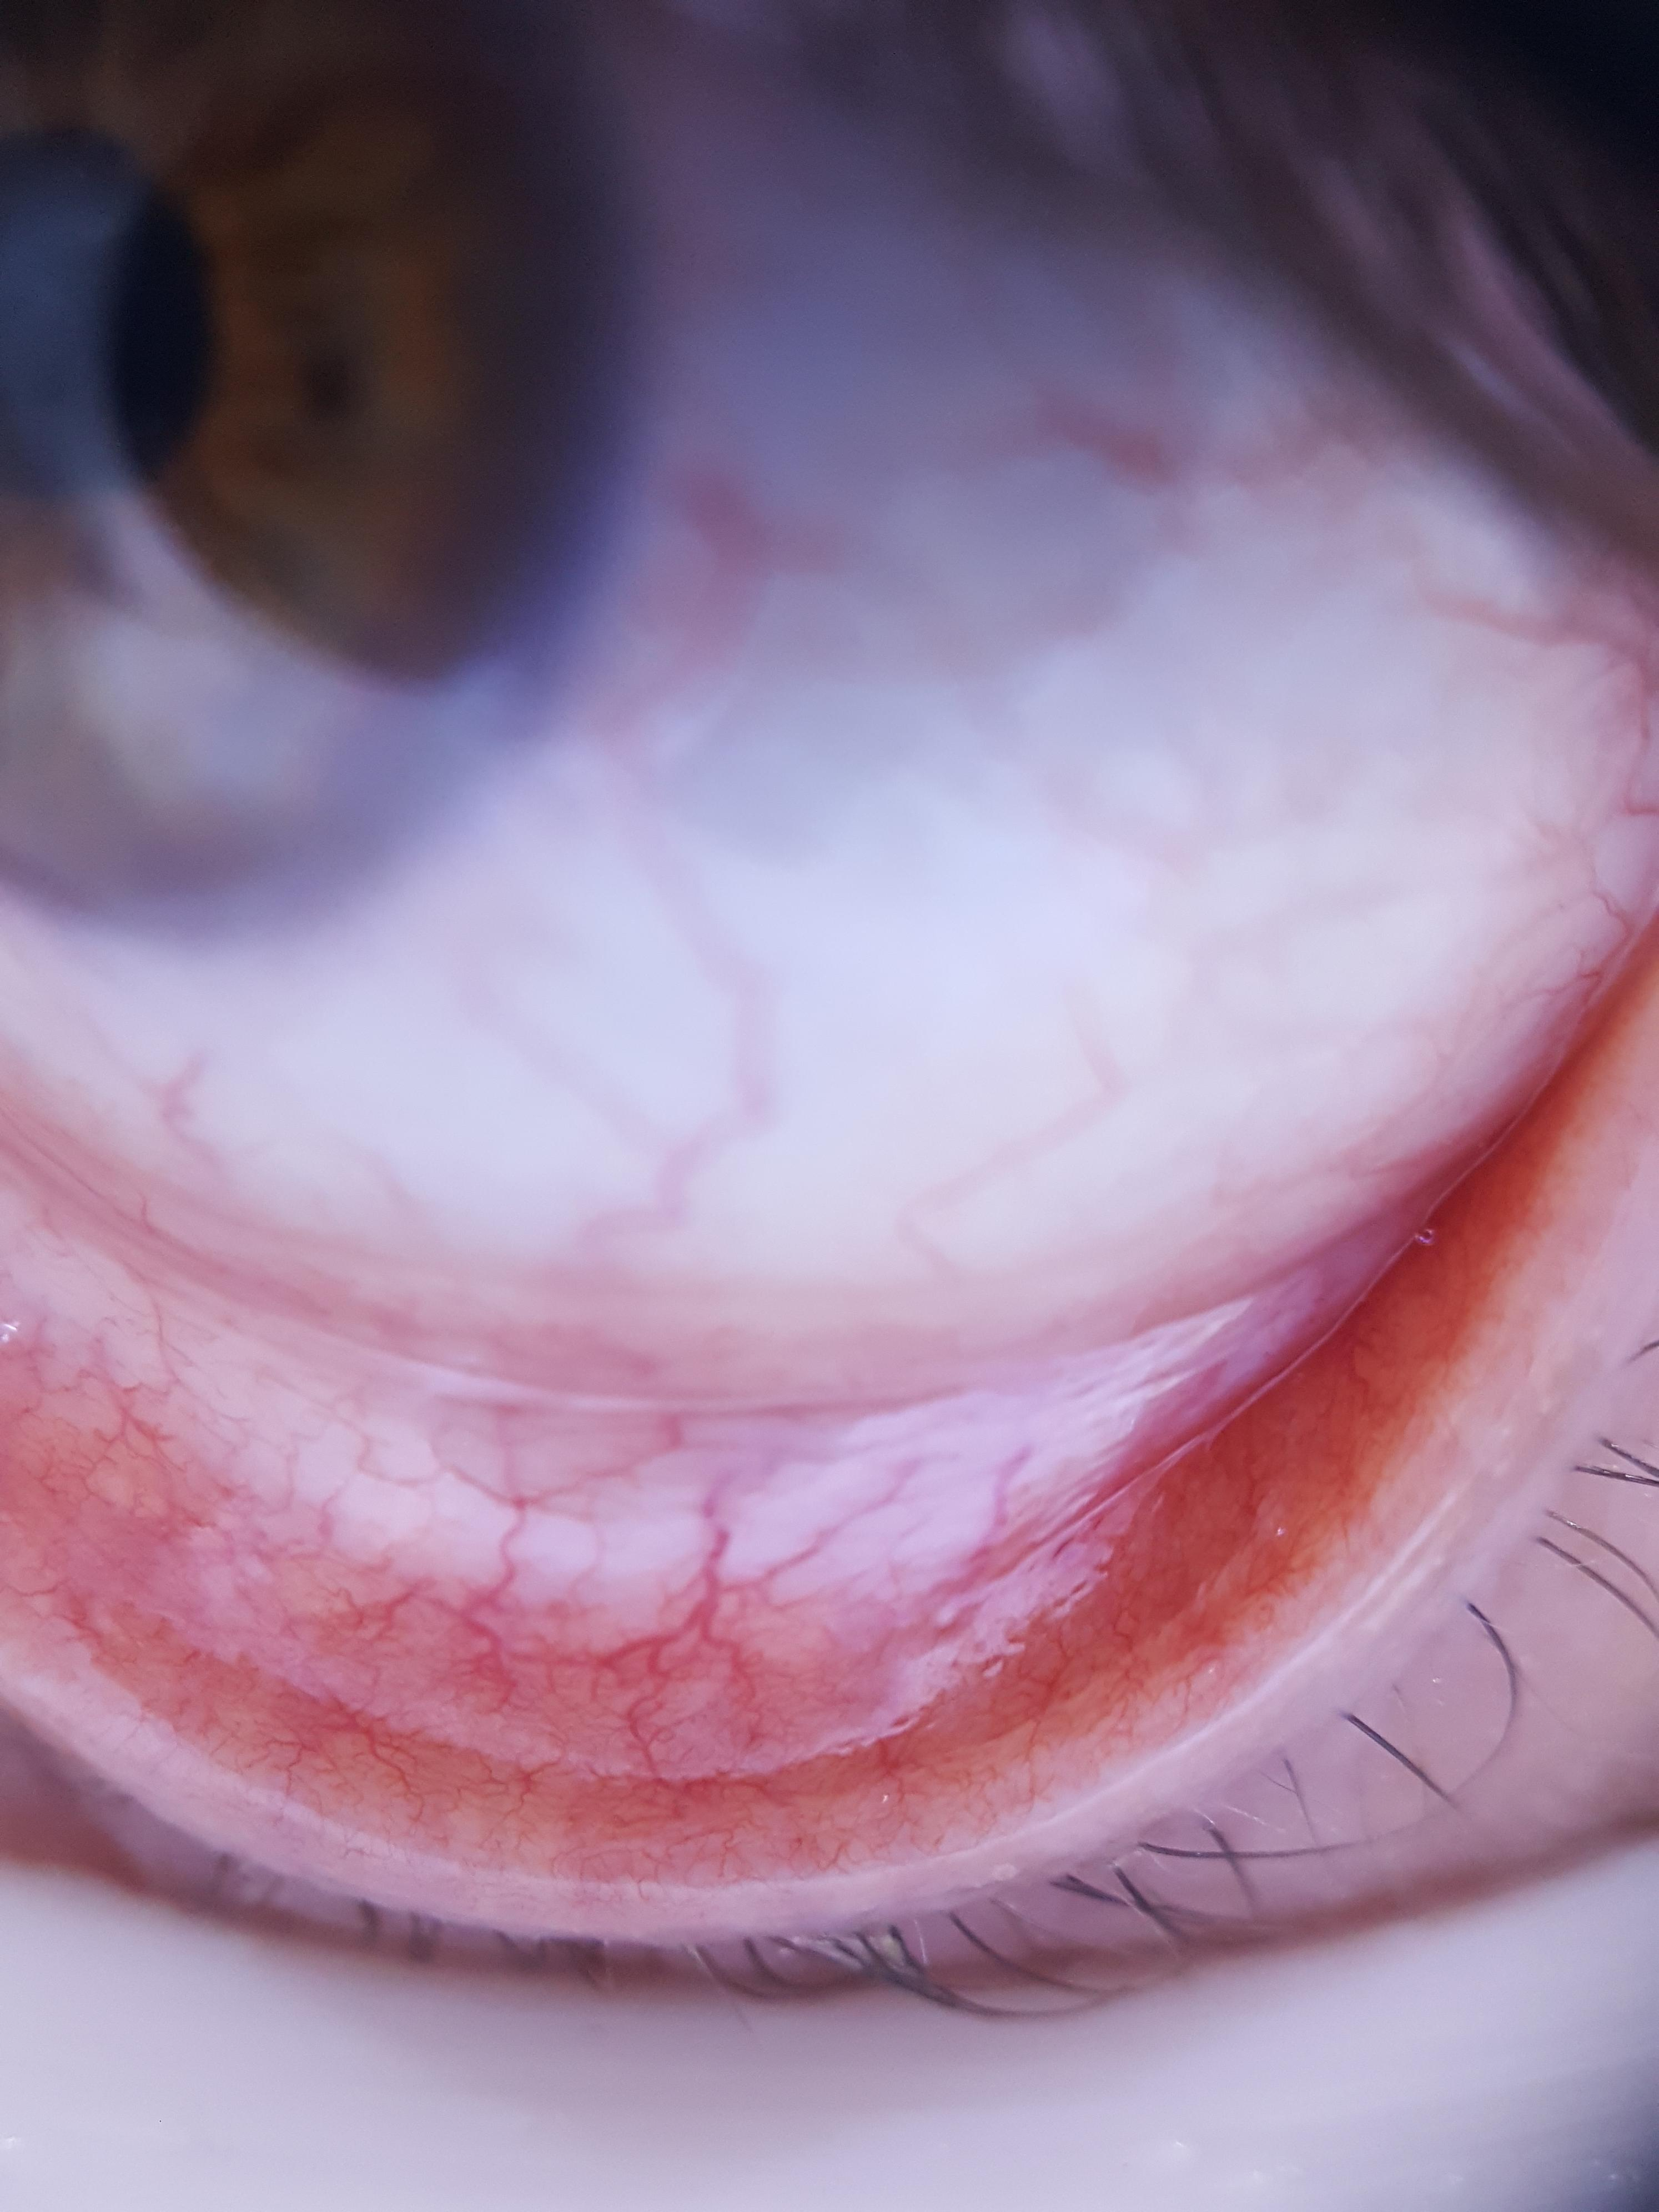forniceal: (2, 1118, 1480, 1611)
forniceal_palpebral: (0, 1026, 1598, 1860)
palpebral: (7, 1071, 1565, 1860)
